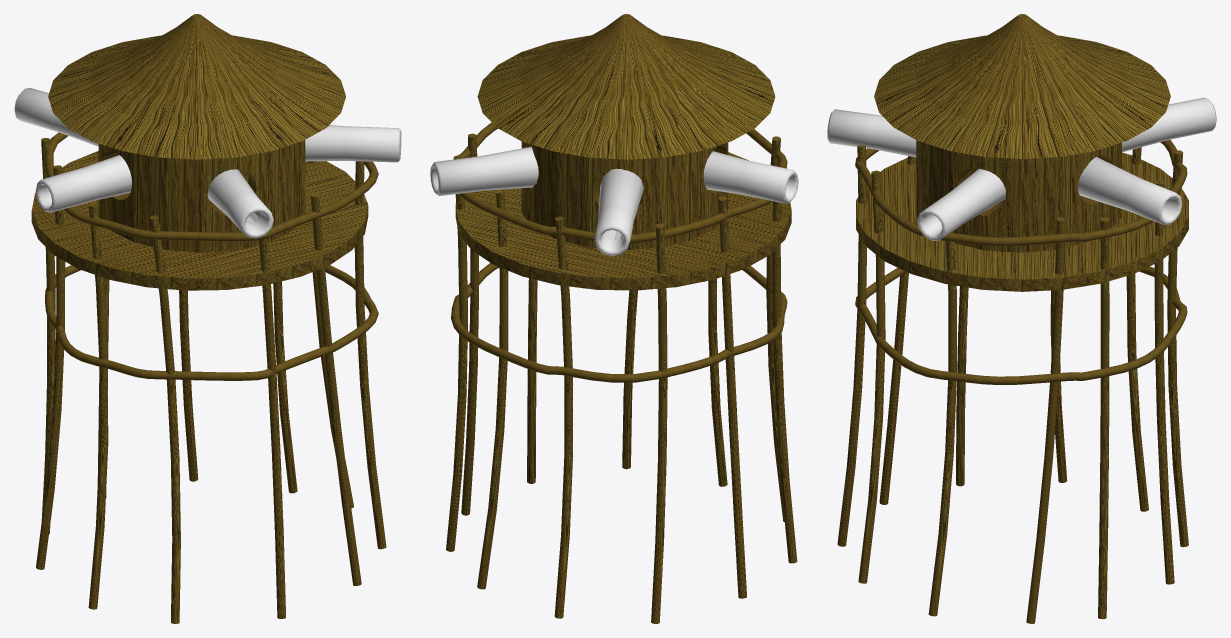
Rendered from Tower2.FBX.
3 views of the same model, side by side, from view 1: azimuth 30°, elevation 25°; view 2: azimuth 150°, elevation 25°; view 3: azimuth 270°, elevation 25° (orthographic).
Visible parts, largest first — view 1: tower001, ChamferCyl014, ChamferCyl010, ChamferCyl006, ChamferCyl013; view 2: tower001, ChamferCyl012, ChamferCyl014, ChamferCyl013; view 3: tower001, ChamferCyl012, ChamferCyl010, ChamferCyl006, ChamferCyl013.
Part boxes in pixels (x1=…): tower001: x1=31, y1=14, x2=386, y2=623; ChamferCyl014: x1=35, y1=155, x2=131, y2=212; ChamferCyl010: x1=305, y1=125, x2=401, y2=162; ChamferCyl006: x1=207, y1=169, x2=273, y2=238; ChamferCyl013: x1=14, y1=87, x2=98, y2=146; tower001: x1=446, y1=14, x2=797, y2=623; ChamferCyl012: x1=430, y1=146, x2=538, y2=196; ChamferCyl014: x1=703, y1=151, x2=798, y2=203; ChamferCyl013: x1=594, y1=168, x2=643, y2=256; tower001: x1=837, y1=14, x2=1188, y2=623; ChamferCyl012: x1=1078, y1=157, x2=1182, y2=224; ChamferCyl010: x1=917, y1=168, x2=1006, y2=240; ChamferCyl006: x1=827, y1=109, x2=916, y2=157; ChamferCyl013: x1=1122, y1=97, x2=1216, y2=152.
Size of the model in its own units: 1038 by 1650 by 1082.
